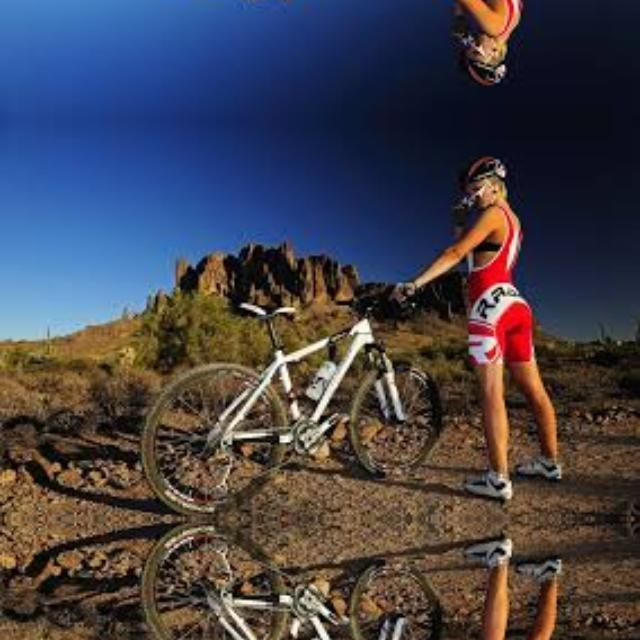obstacle: (111, 232, 451, 510), (111, 528, 451, 640), (111, 0, 451, 7)
